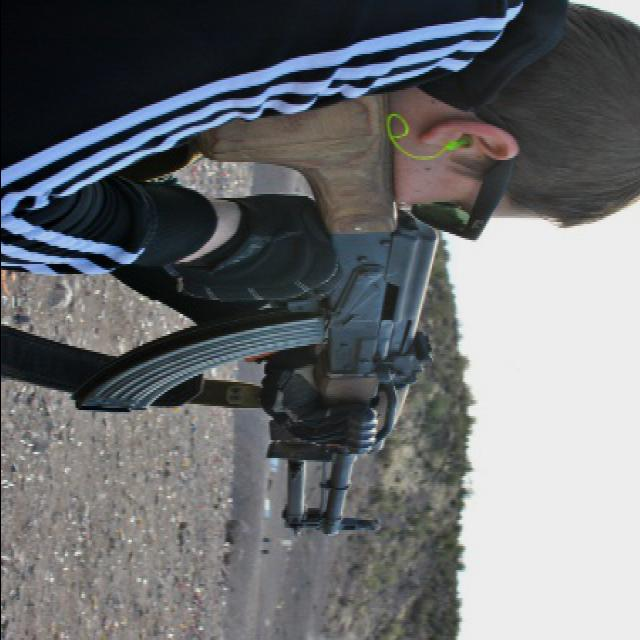long weapon: (73, 80, 445, 538)
